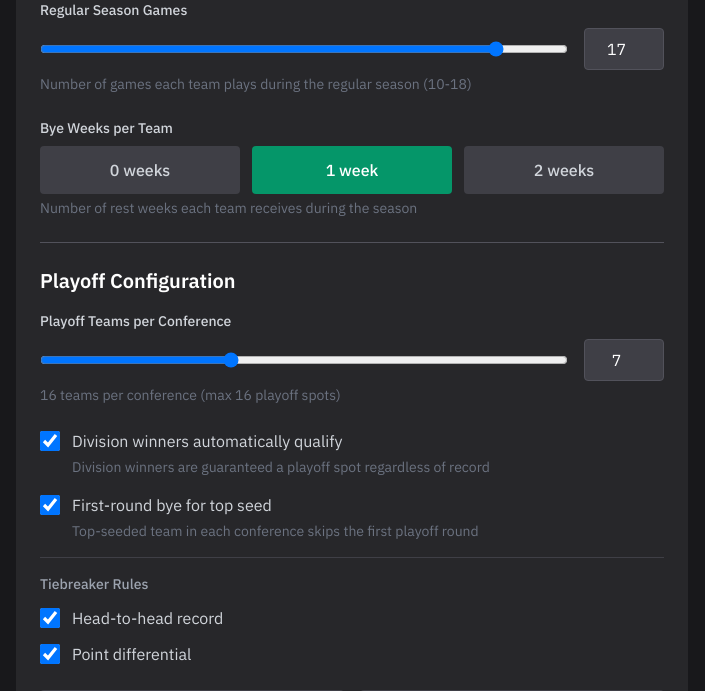
it: CreateLeaguePage › Playoff Configuration › should update playoff teams slider value
The width and height of the screenshot is (705, 691).
(page scrolled)
Expected: the heading "Playoff Configuration" is shown, [40,267,236,294]
Replace the text in the number field showing "7" with "4": (624, 360) [584,339,664,381]
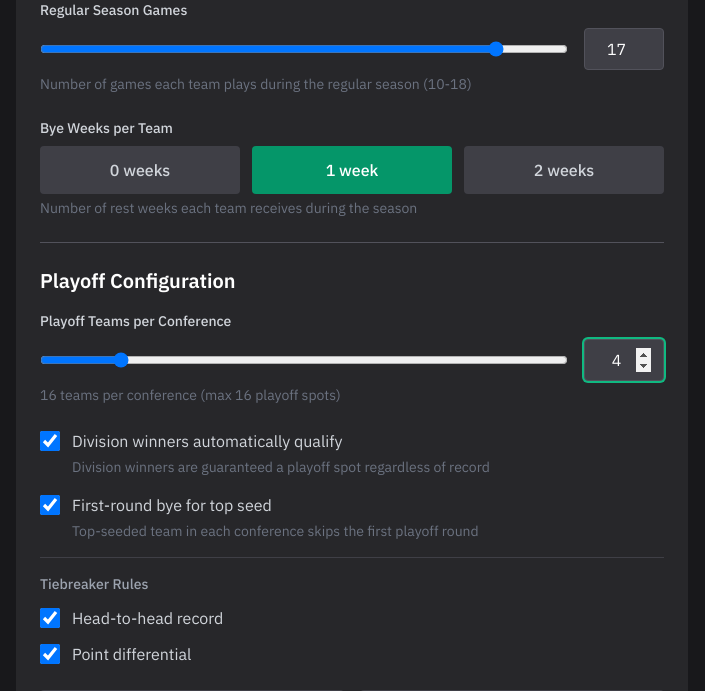
Expected: the slider labelled "Playoff Teams per Conference" holds "4", [40,352,568,368]
